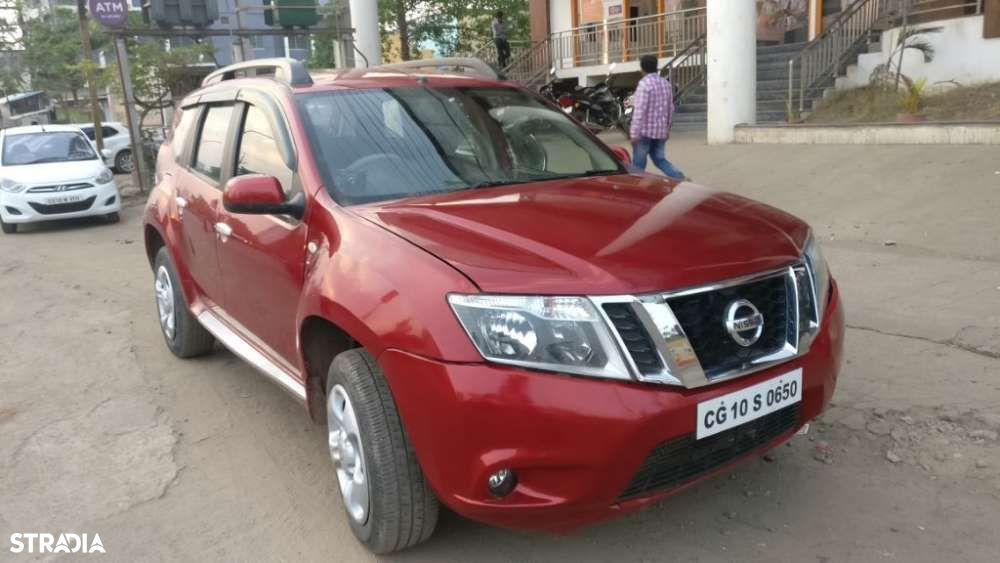number_plate: (694, 368, 836, 439)
